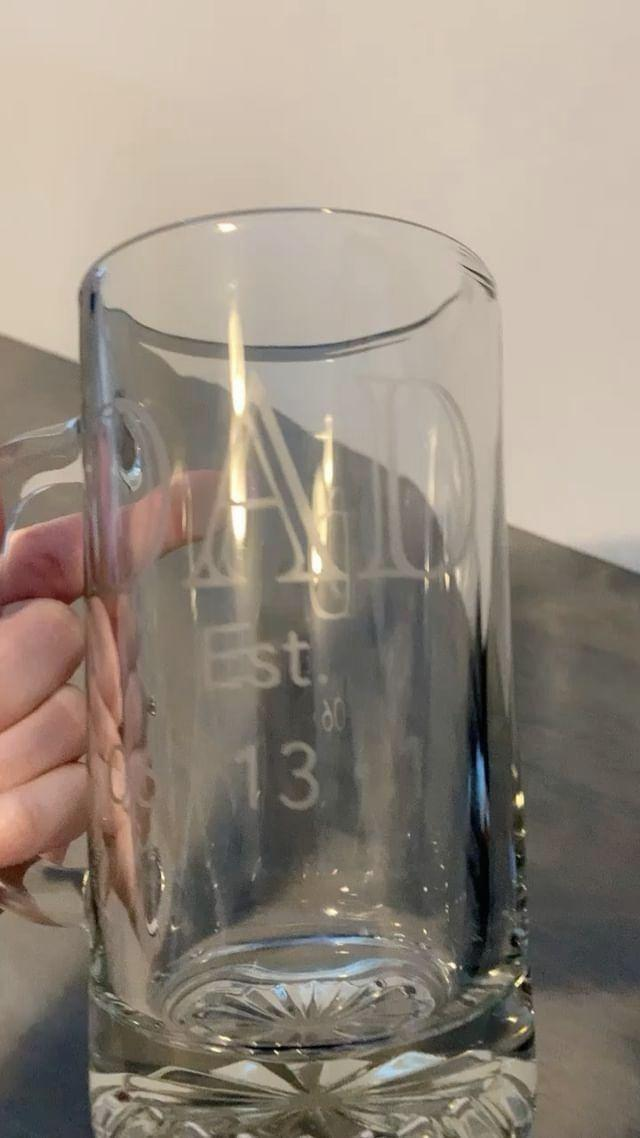glass-mug: (0, 181, 529, 1138)
